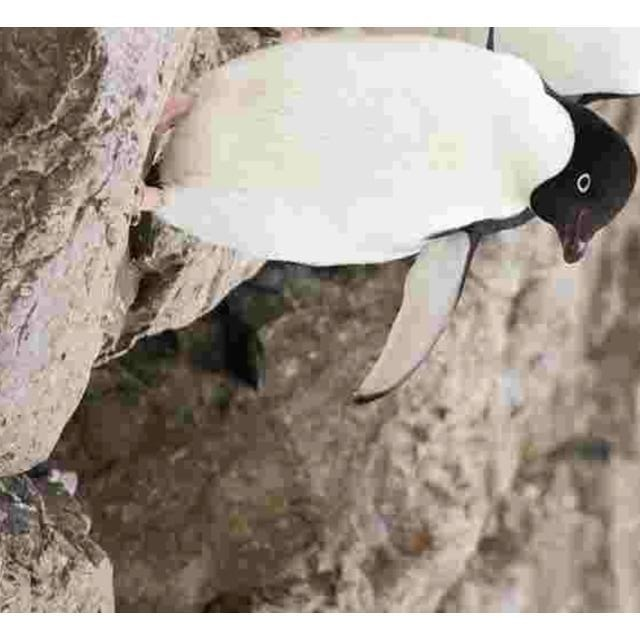penguin: (134, 30, 638, 403)
